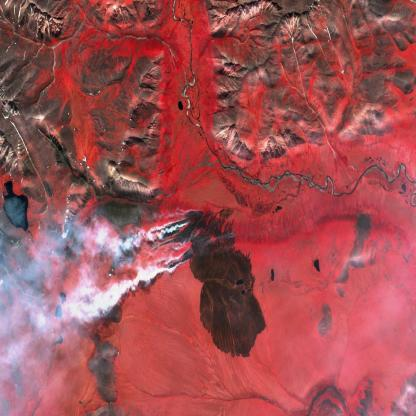fire: (141, 201, 240, 276)
